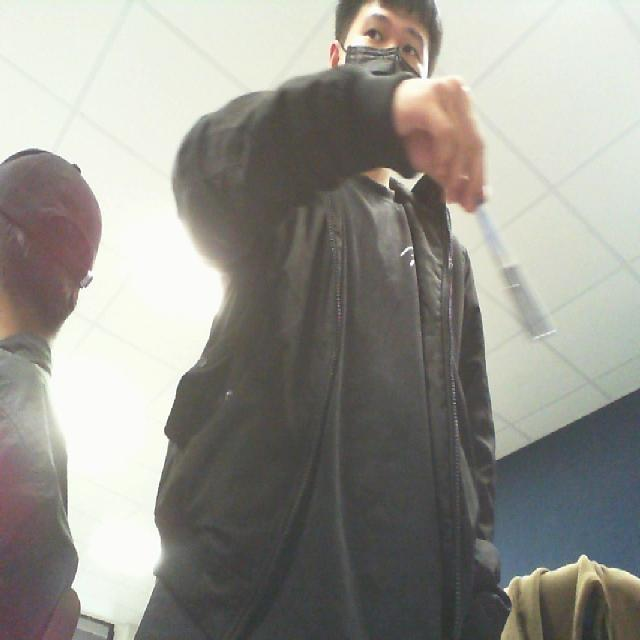Pen: (445, 172, 562, 353)
